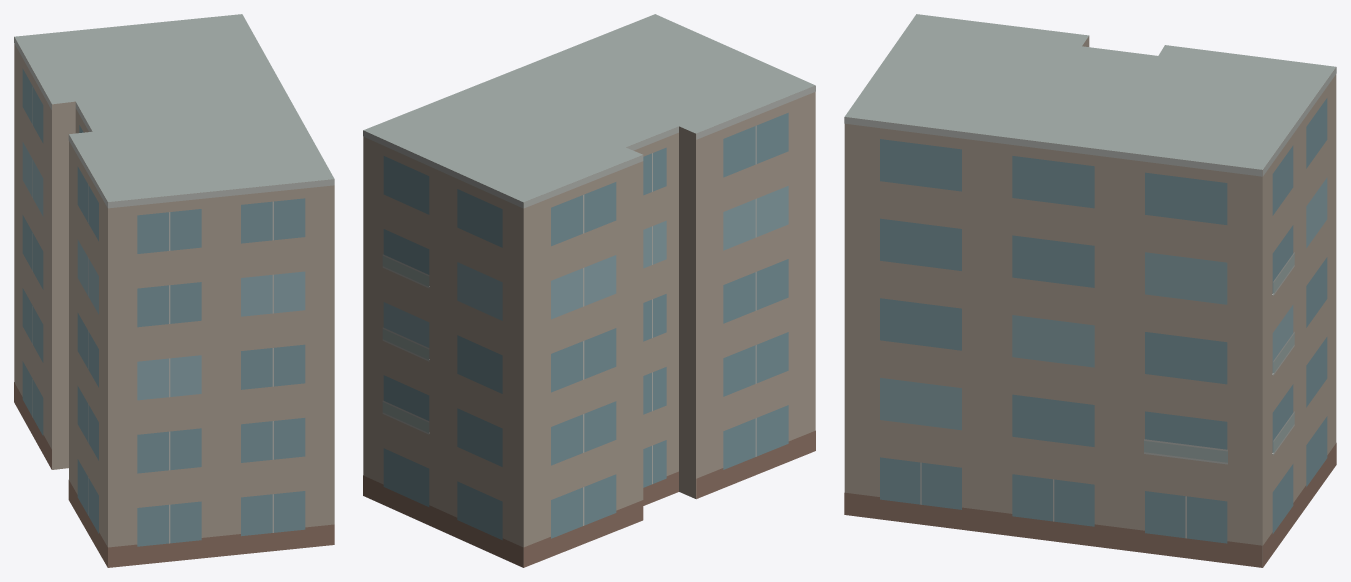
Rendered from survey-upis-32879700.glb.
3 views of the same model, side by side, from view 1: azimuth 30°, elevation 25°; view 2: azimuth 150°, elevation 25°; view 3: azimuth 270°, elevation 25° (orthographic). The views are drawn at different scales.
Visible parts, largest first — view 1: survey-upis-32879700.tmp; view 2: survey-upis-32879700.tmp; view 3: survey-upis-32879700.tmp.
Boxes of the visible parts, x1=… form: survey-upis-32879700.tmp: x1=14, y1=14, x2=334, y2=567; survey-upis-32879700.tmp: x1=363, y1=14, x2=815, y2=567; survey-upis-32879700.tmp: x1=844, y1=14, x2=1336, y2=567.
Bounding box in the file's own units: 12.02 × 14.3 × 16.03.
